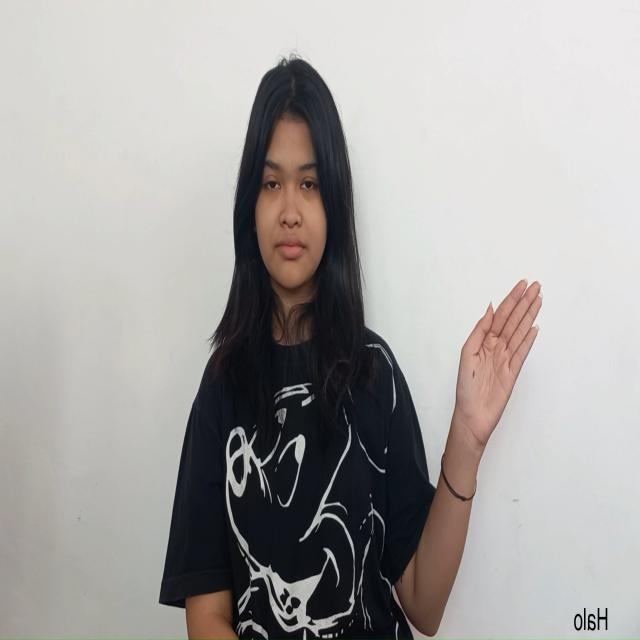Halo -BISINDO-: (444, 276, 544, 456)
